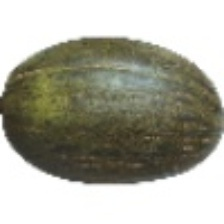honeydew: (46, 31, 216, 196)
